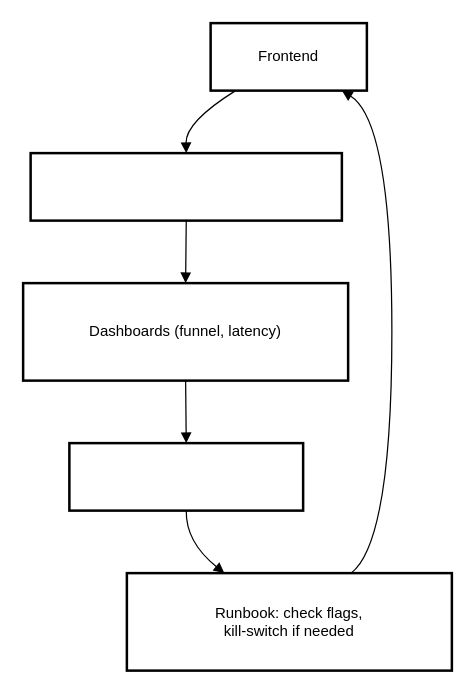
This 474x693 diagram has some shape labels left out. Here are the shapes that lost their labels. From the top down, the centre of each, then its label:
At point (185, 186): "PostHog: events & metrics".
At point (186, 476): "Slack #quiz-alerts".
